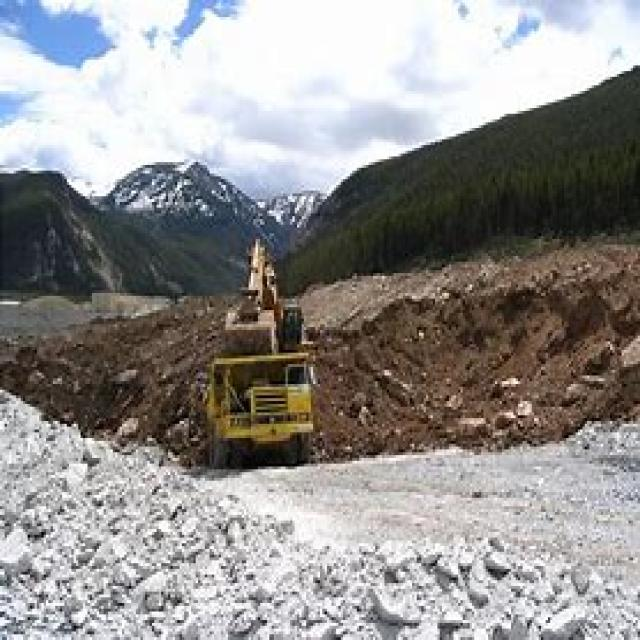dump_truck: (189, 344, 329, 478)
